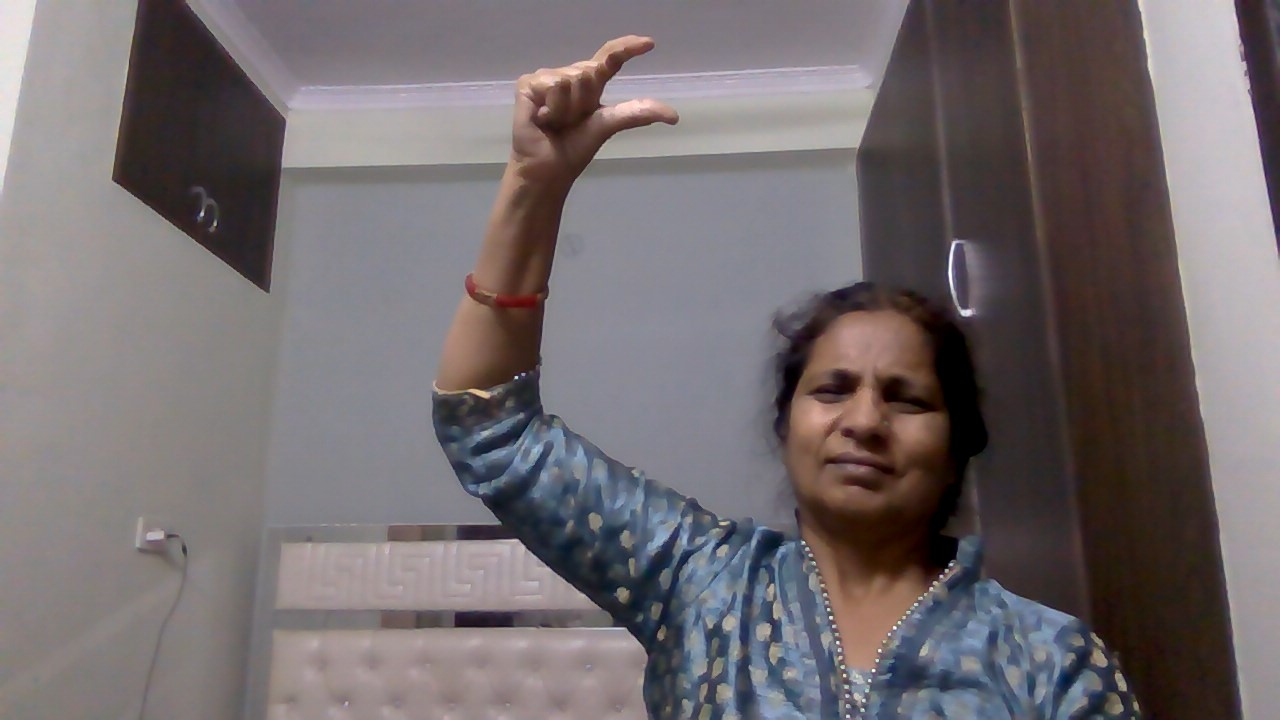Paste: (502, 26, 689, 205)
